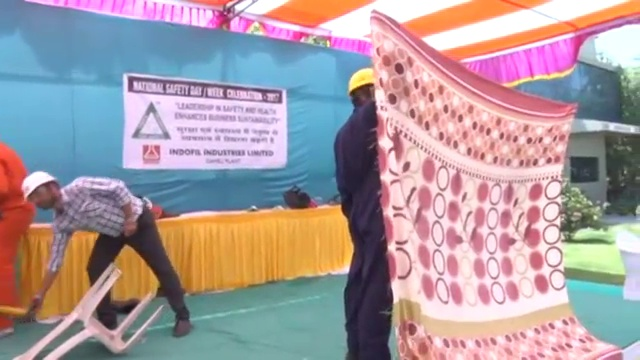helmet: (21, 169, 56, 203), (345, 66, 376, 93)
helmet_on: (18, 170, 67, 215), (343, 65, 377, 109)
person: (17, 167, 191, 342), (325, 65, 395, 360), (1, 141, 37, 336)
